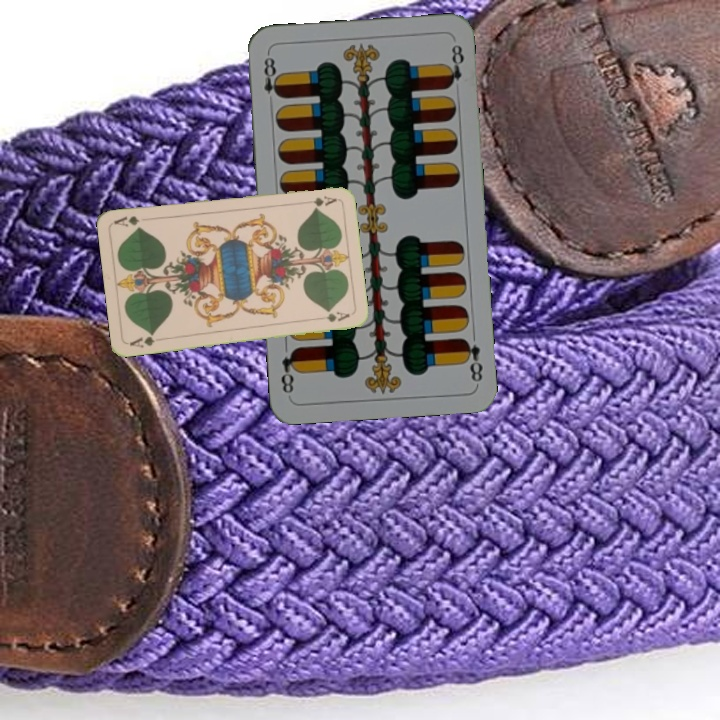E8: (458, 334, 486, 384), (260, 50, 284, 100)
GA: (125, 329, 157, 351), (298, 192, 339, 208)
